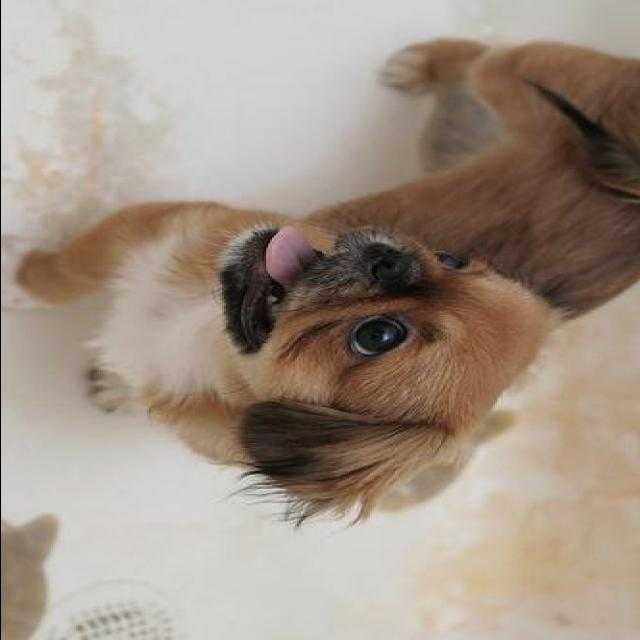pekinese: (2, 36, 640, 534)
